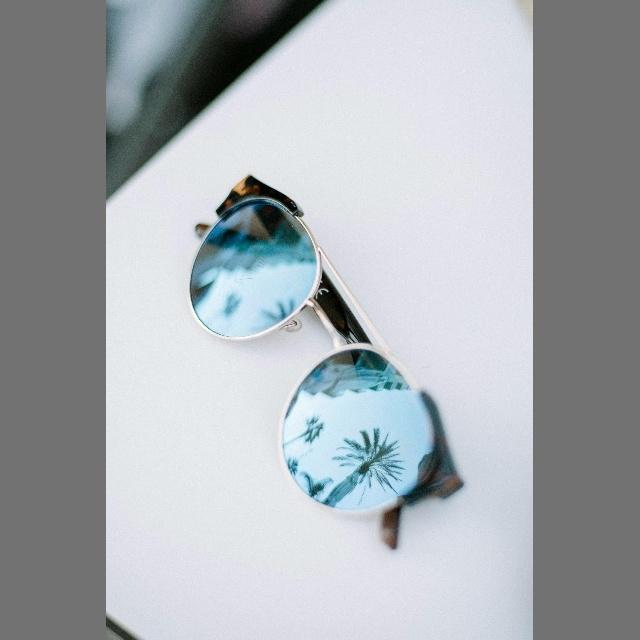Sunglasses: (167, 181, 477, 567)
